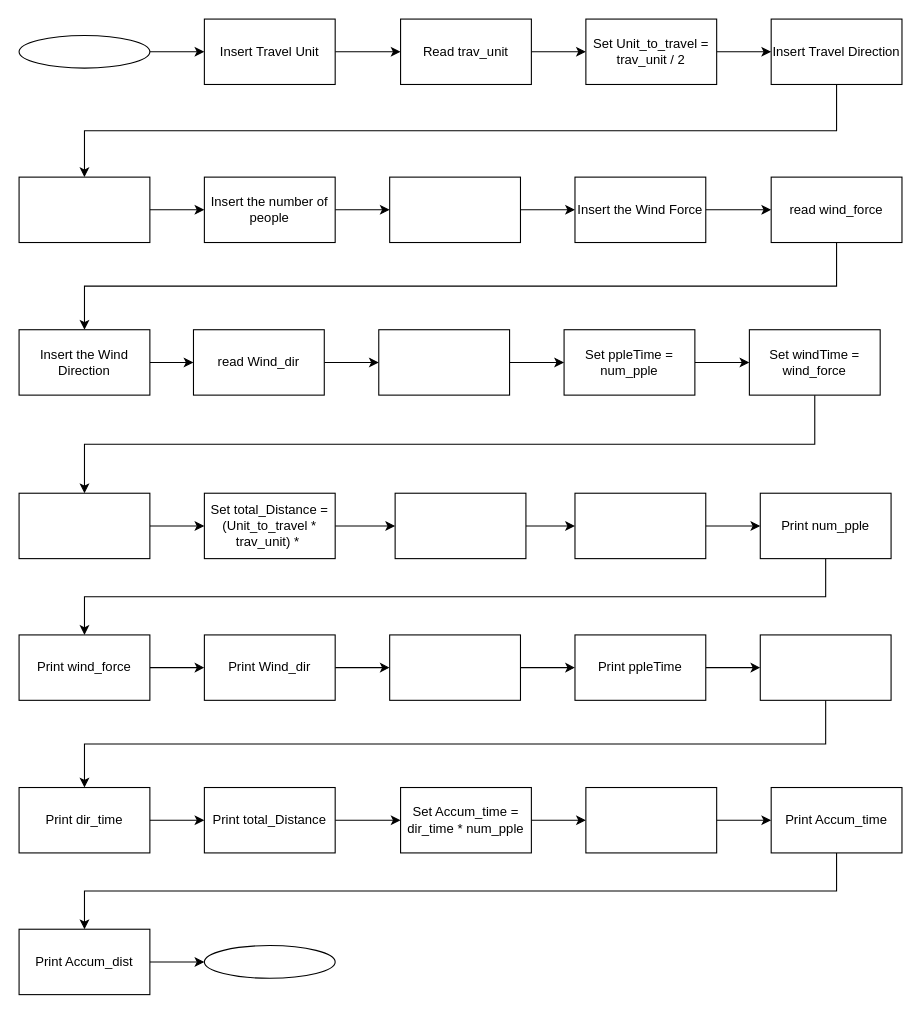
Some shapes in this 921 by 1014 pixel diagram are drawn without their labels. The centre of each missing label's shape, as x and y in pixels:
End: the point at 269,961
Print BaseUnitTime: the point at 454,667
Print Trav_Dir: the point at 640,525
Print Unit_to_travel: the point at 460,525
Print windTime: the point at 825,667
read num_pple: the point at 454,209
read Trav_Dir: the point at 84,209
Set Accum_dist = Unit_to_travel / BaseUnitTime: the point at 651,819
Set BaseUnitTime = num_pple * 10: the point at 444,362
Set dir_Time = (BaseUnitTime + ppleTime) * Unit_to_travel: the point at 84,525
Start: the point at 84,51
